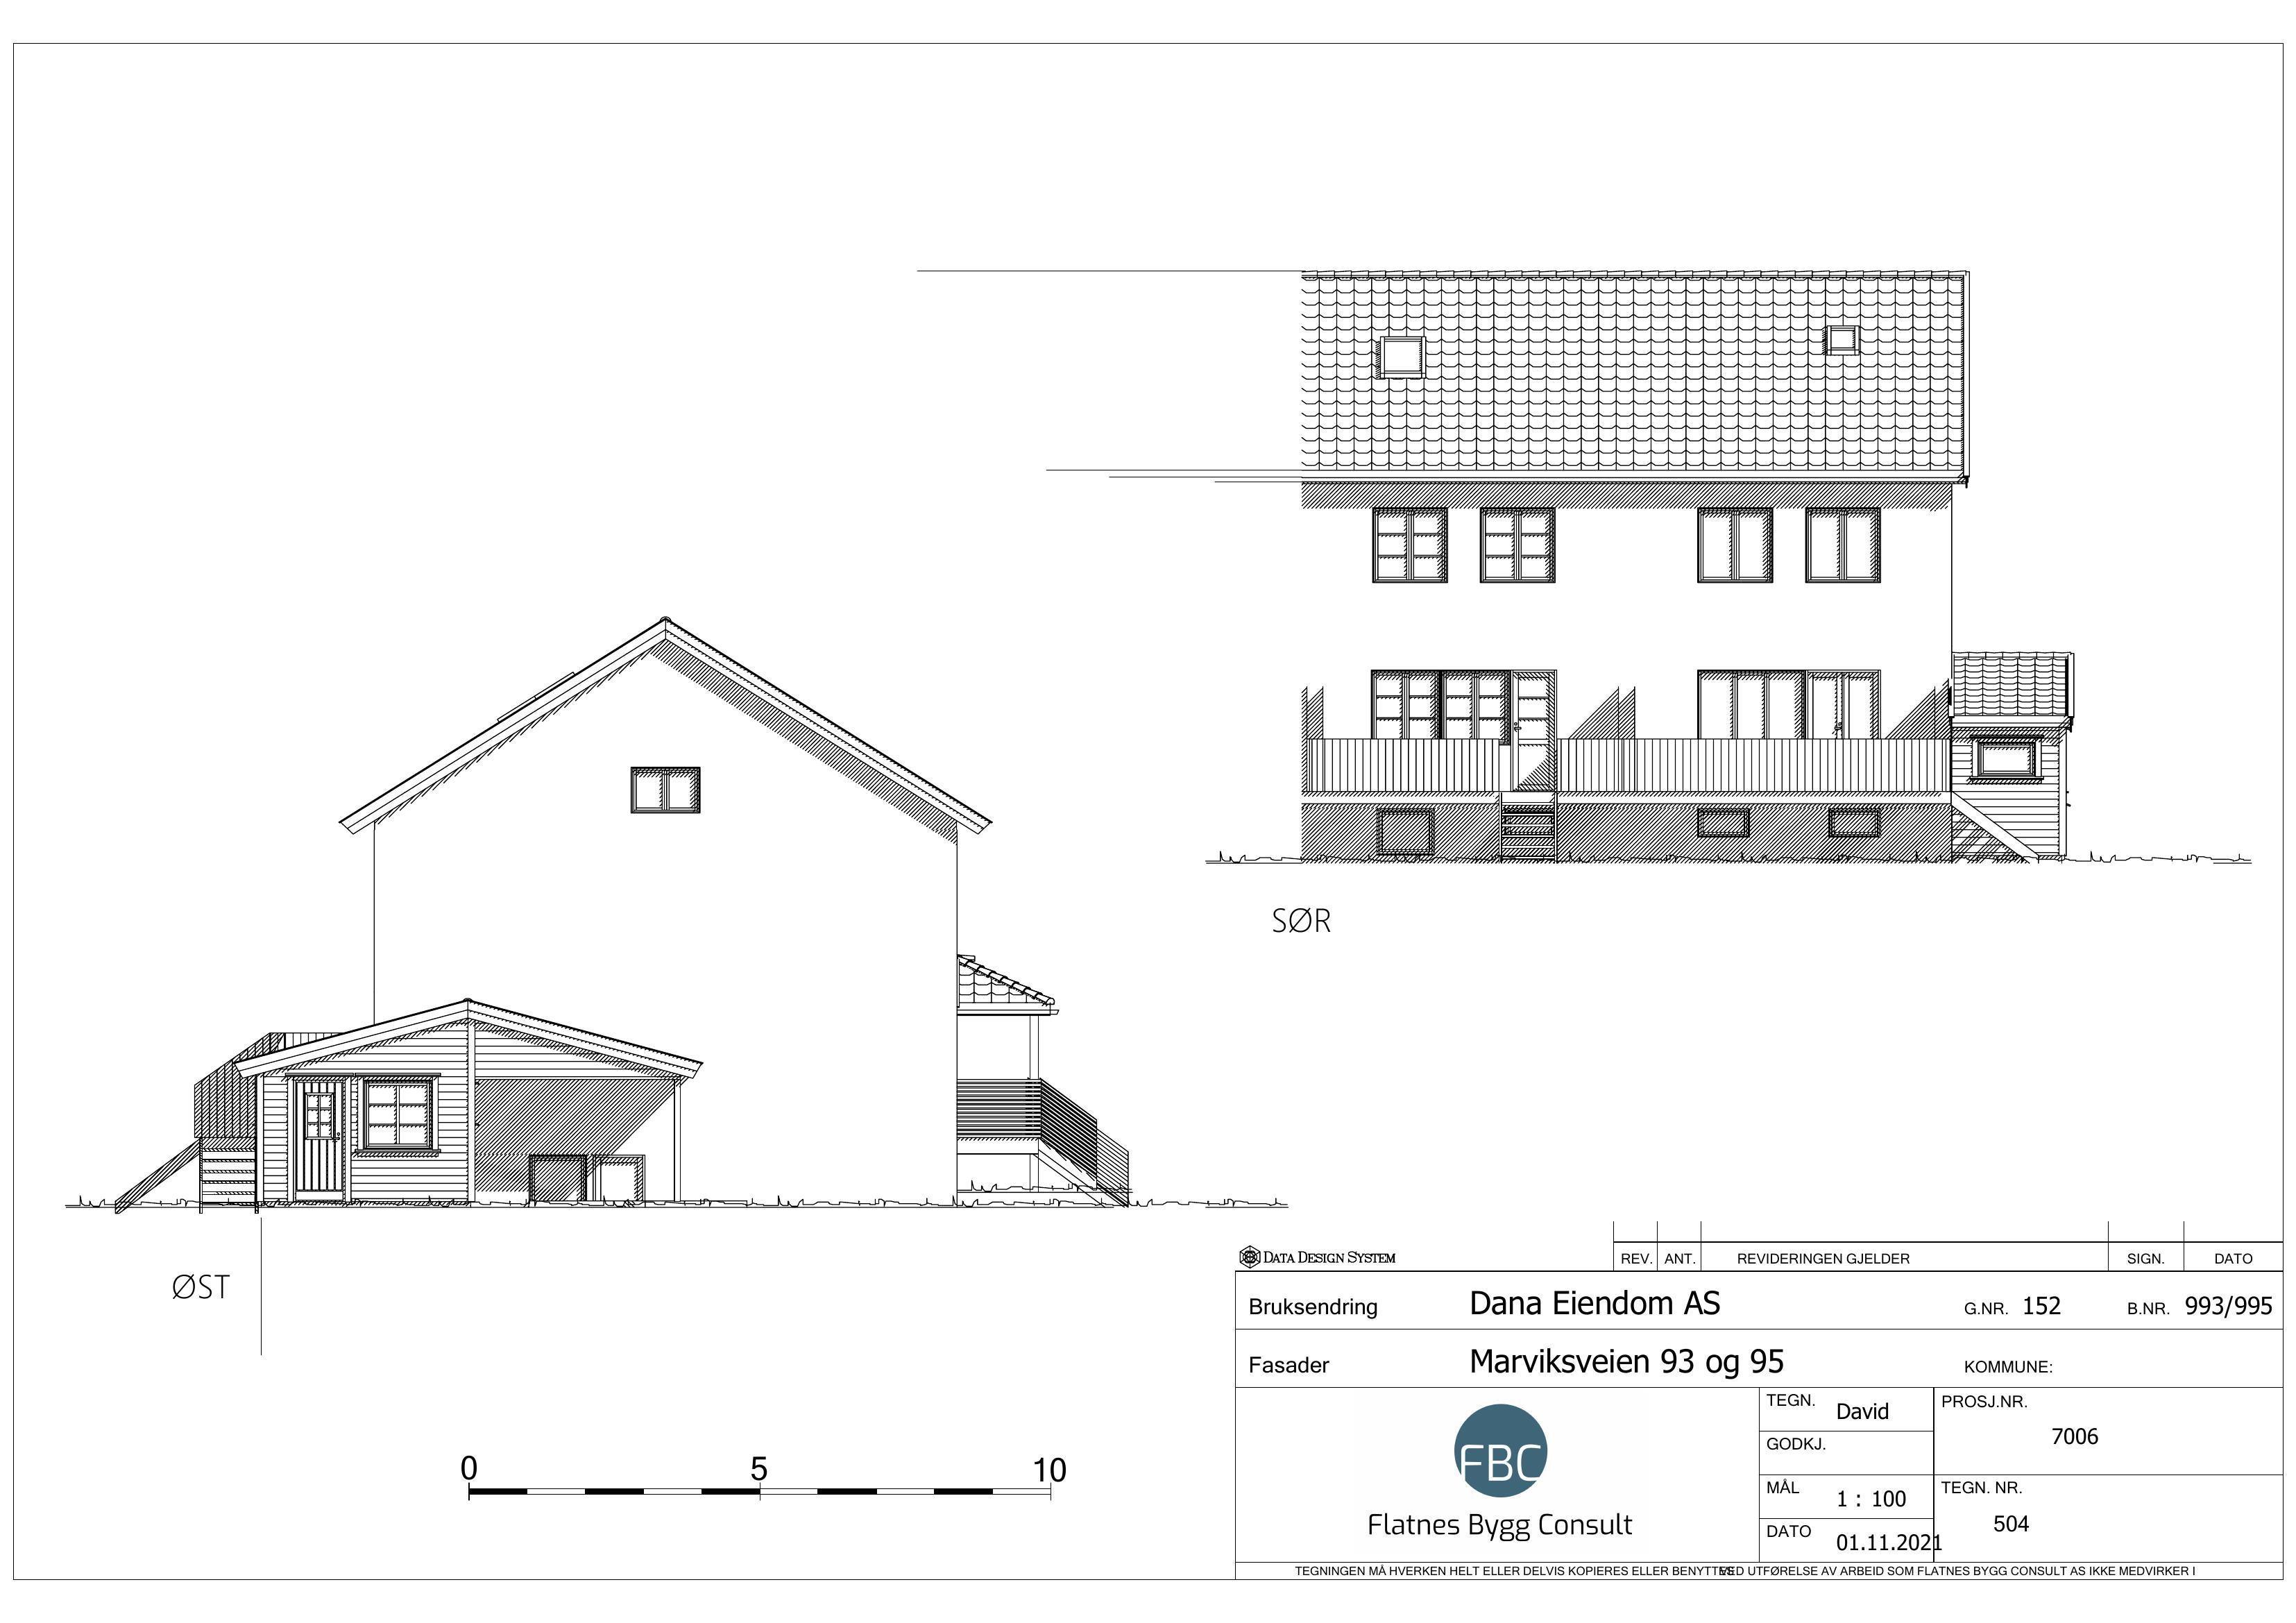fasade: (95, 611, 1140, 1219), (1293, 258, 2083, 871)
